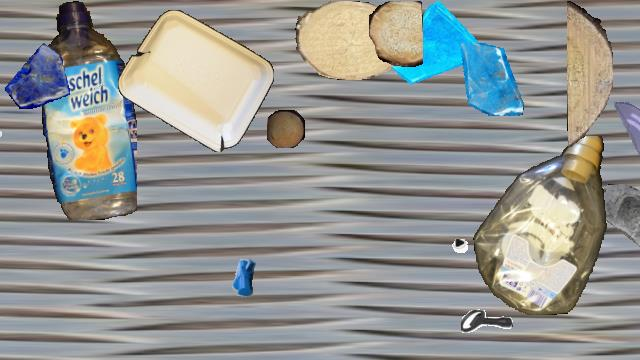glass: (392, 1, 482, 91), (454, 43, 526, 115), (4, 42, 70, 108), (601, 182, 640, 266), (609, 101, 640, 159)
metal: (65, 98, 125, 158), (214, 246, 272, 304), (415, 199, 473, 257), (461, 297, 513, 349), (0, 299, 18, 353), (0, 100, 6, 140)
plastic: (473, 136, 609, 314), (118, 10, 274, 152), (42, 1, 136, 219)
wood: (295, 1, 401, 79), (567, 1, 613, 147), (369, 1, 423, 67), (267, 110, 305, 148)
